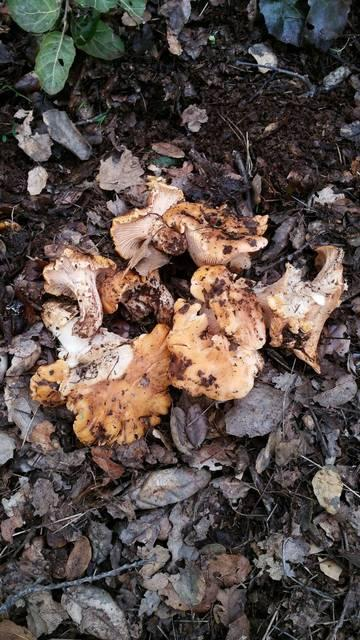Edible Mushroom: (29, 176, 346, 446)
